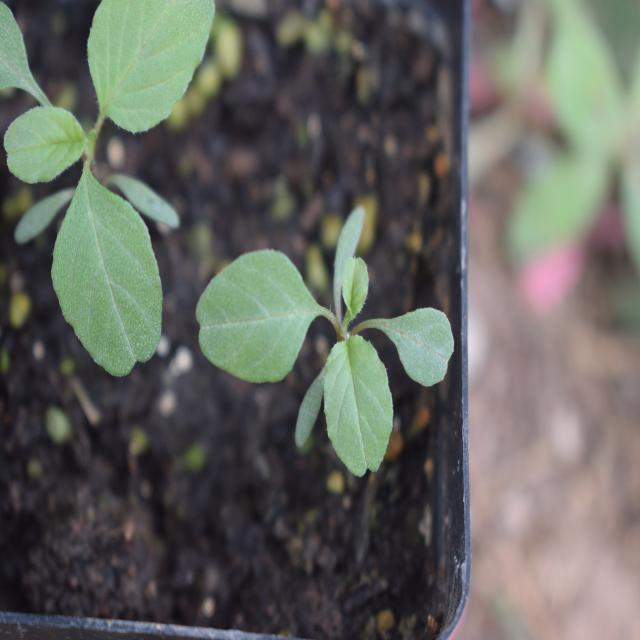pigweed: (168, 173, 454, 468)
